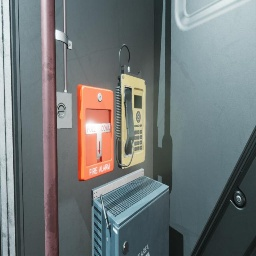EmergencyPhone ,: (116, 44, 146, 169)
FireAlarm ,: (77, 84, 114, 181)
